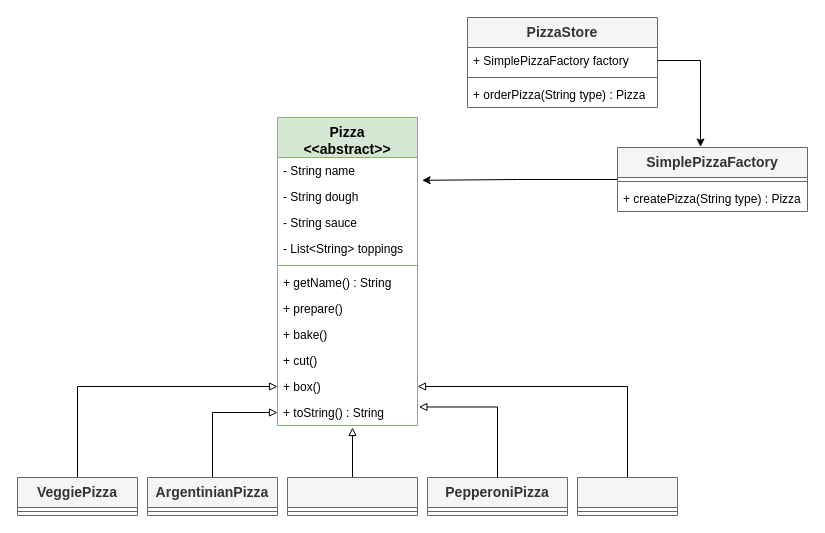
Image size: 825x533. Some labels were removed from this diagram. The shapes that lost their labels are listed below. From the top down, each one's centre as x and y in pixels, then its label:
At (x=352, y=496): "CheesePizza".
At (x=627, y=496): "ClamPizza".
